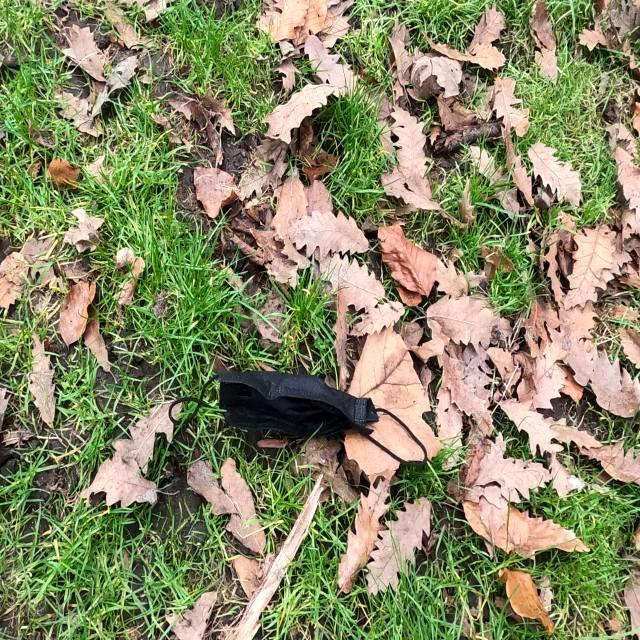Mask: (166, 366, 430, 472)
